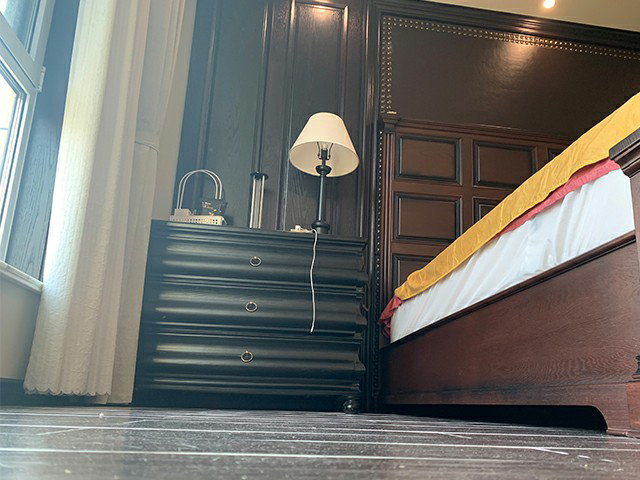bed: (376, 91, 640, 439)
cabinet: (132, 219, 369, 415)
curtain: (22, 1, 186, 407)
